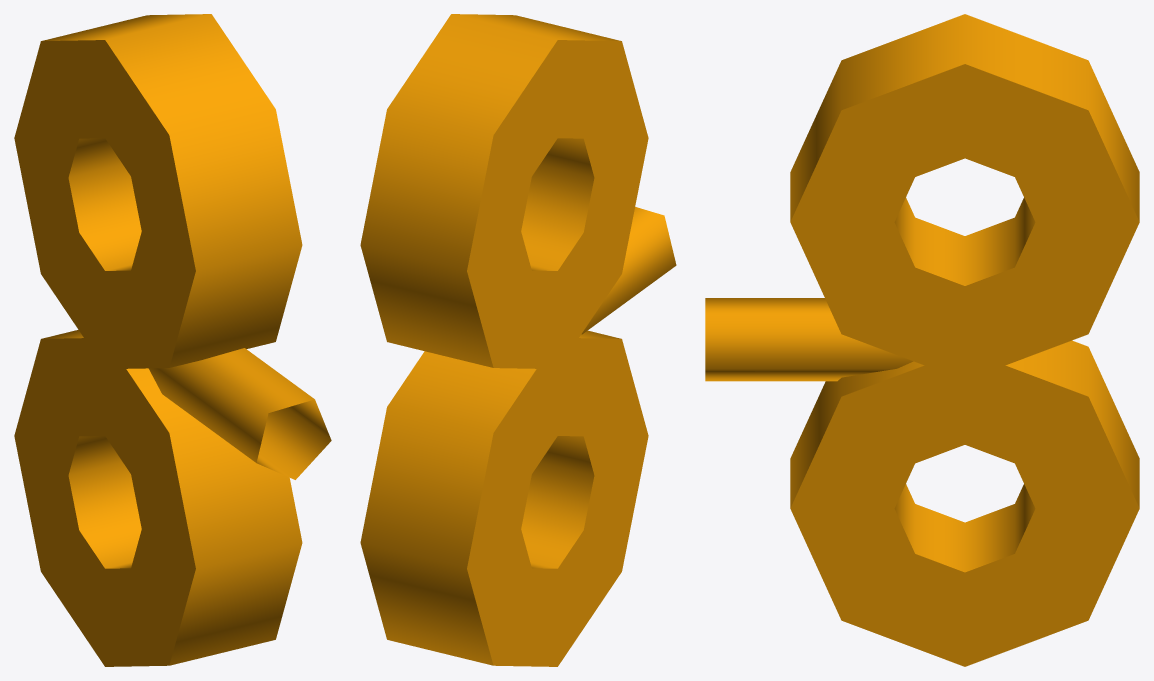
Rendered from Tinker_Key.glb.
3 views of the same model, side by side, from view 1: azimuth 30°, elevation 25°; view 2: azimuth 150°, elevation 25°; view 3: azimuth 270°, elevation 25° (orthographic). The views are drawn at different scales.
Visible parts, largest first — view 1: Key; view 2: Key; view 3: Key.
Boxes of the visible parts, <box> form: Key: <box>14,14,331,666</box>; Key: <box>360,14,676,666</box>; Key: <box>705,14,1139,666</box>.
Size of the model in its own units: 0.483 by 2.72 by 1.77.
Materials: 1 (1 with a texture image).
